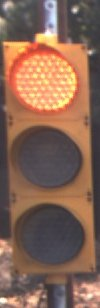Red: (5, 21, 100, 287)
